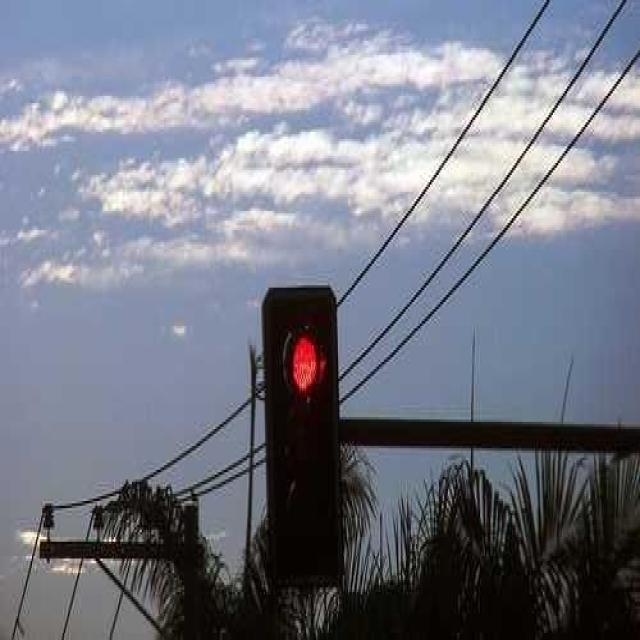Traffic Light -Red-: (251, 265, 352, 597)
